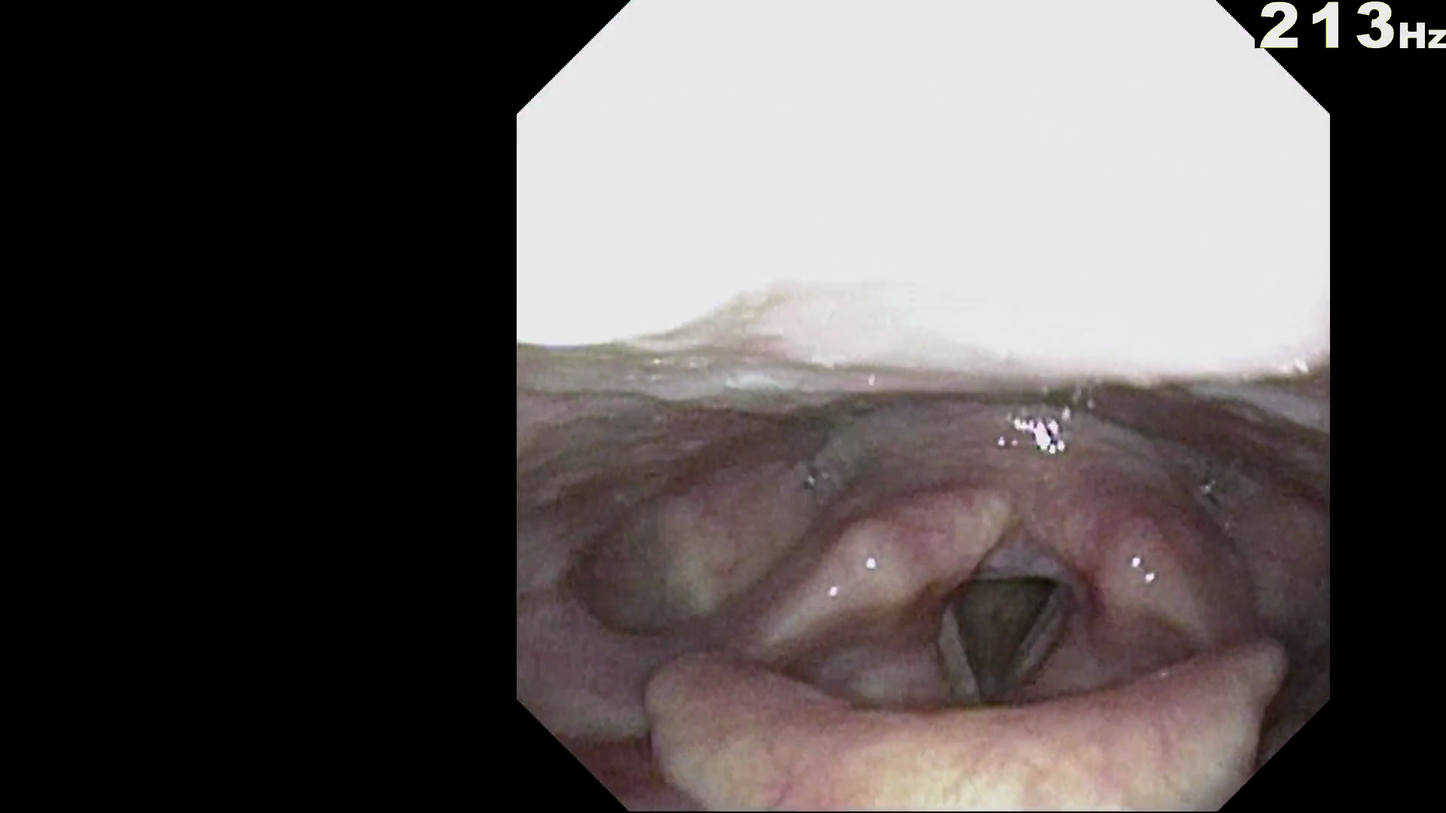epiglottis: (683, 658, 1225, 798)
trachea: (925, 563, 1054, 704)
